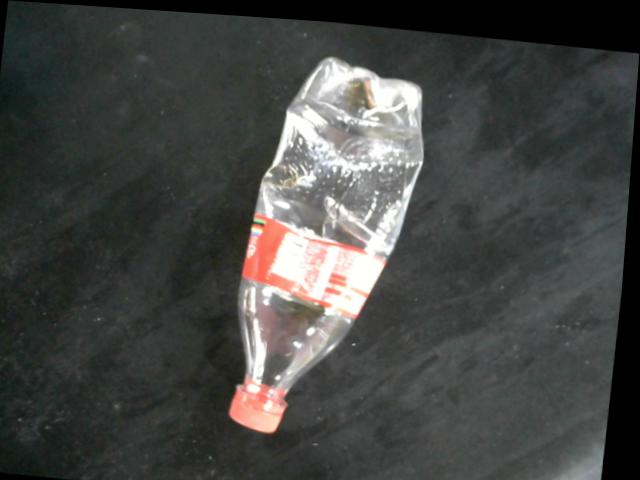bottle: (234, 51, 427, 430)
